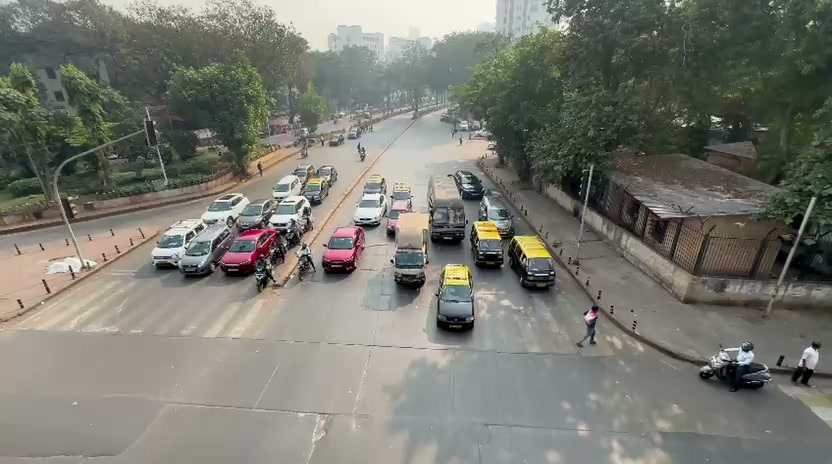car: (217, 227, 286, 276), (178, 221, 239, 276), (435, 263, 476, 332), (151, 221, 207, 269), (321, 225, 366, 274), (268, 197, 313, 238), (203, 193, 249, 226), (177, 238, 215, 277), (392, 247, 428, 286), (234, 199, 278, 230), (352, 196, 385, 228), (452, 171, 484, 200)
motorcycle: (699, 350, 771, 391), (297, 245, 315, 282)
pedestrian: (791, 341, 821, 386), (580, 305, 598, 346), (356, 142, 365, 161)
truck: (427, 173, 467, 244), (507, 234, 556, 289), (393, 211, 431, 266), (471, 219, 505, 268)
